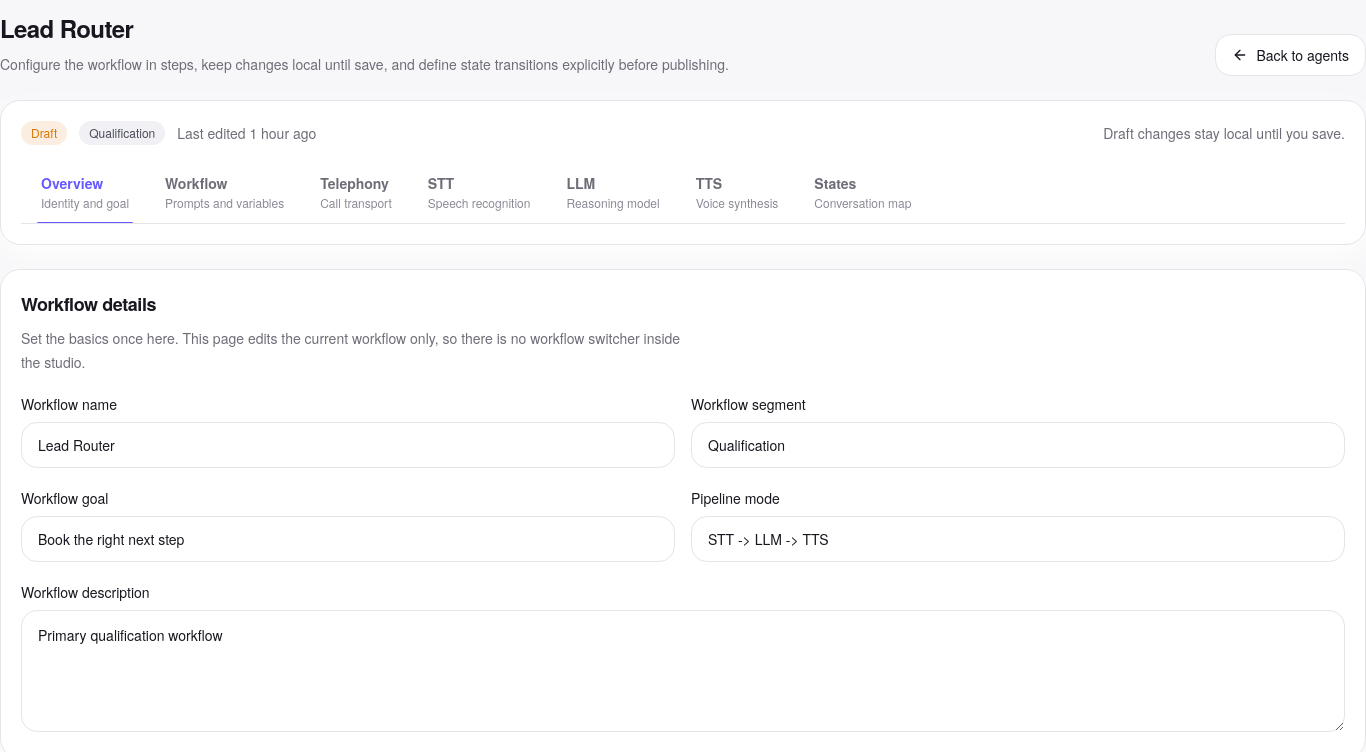
AgentStudioScreen › inserts a variable from the state prompt picker
What coordinates should you click on to do the following:
click the tab "States Conversation map"
I would click on:
 (863, 192)
Its box is [798, 161, 927, 223].
(page scrolled)
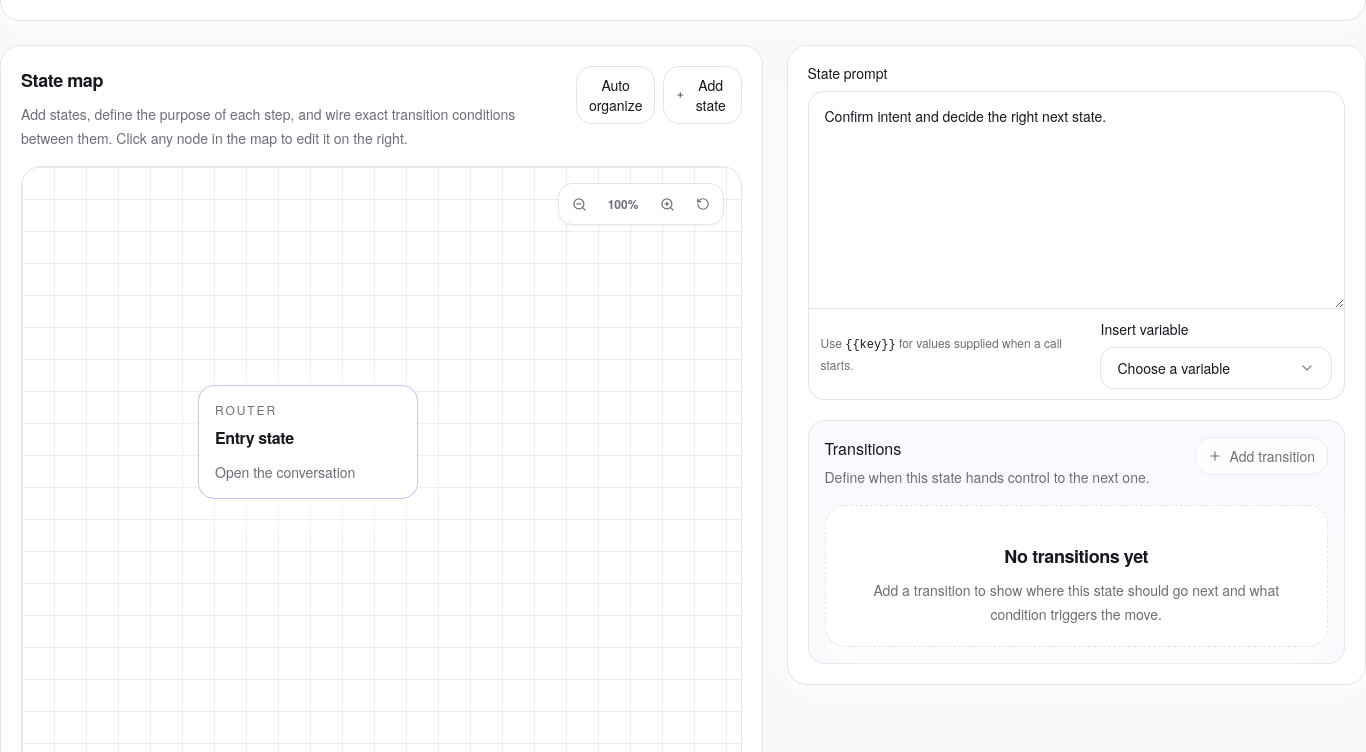
What coordinates should you click on to do the following:
click the button with aria-label "Insert variable into State prompt"
I would click on:
 (1216, 368)
Its box is [1100, 347, 1332, 389].
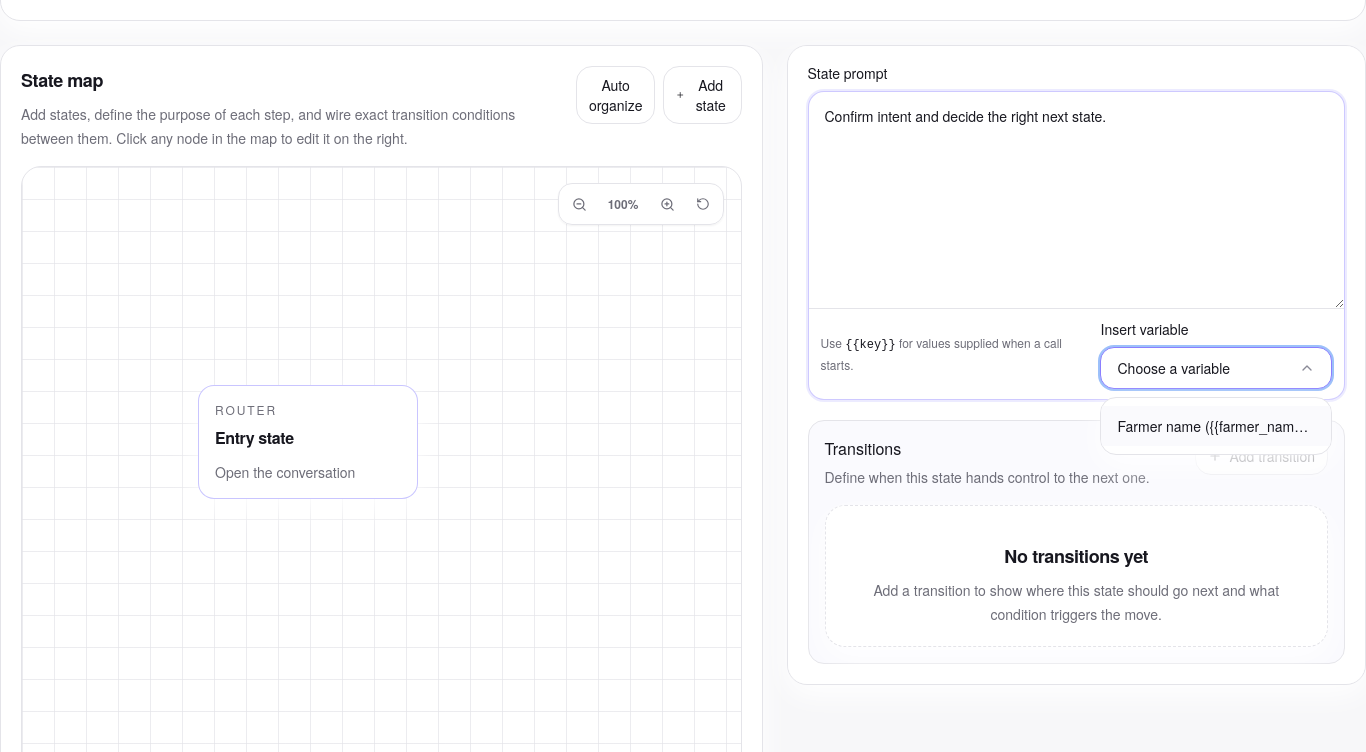
What coordinates should you click on to do the following:
click the option "Farmer name ({{farmer_name}})"
I would click on:
 (1216, 426)
Its box is [1102, 406, 1331, 446].
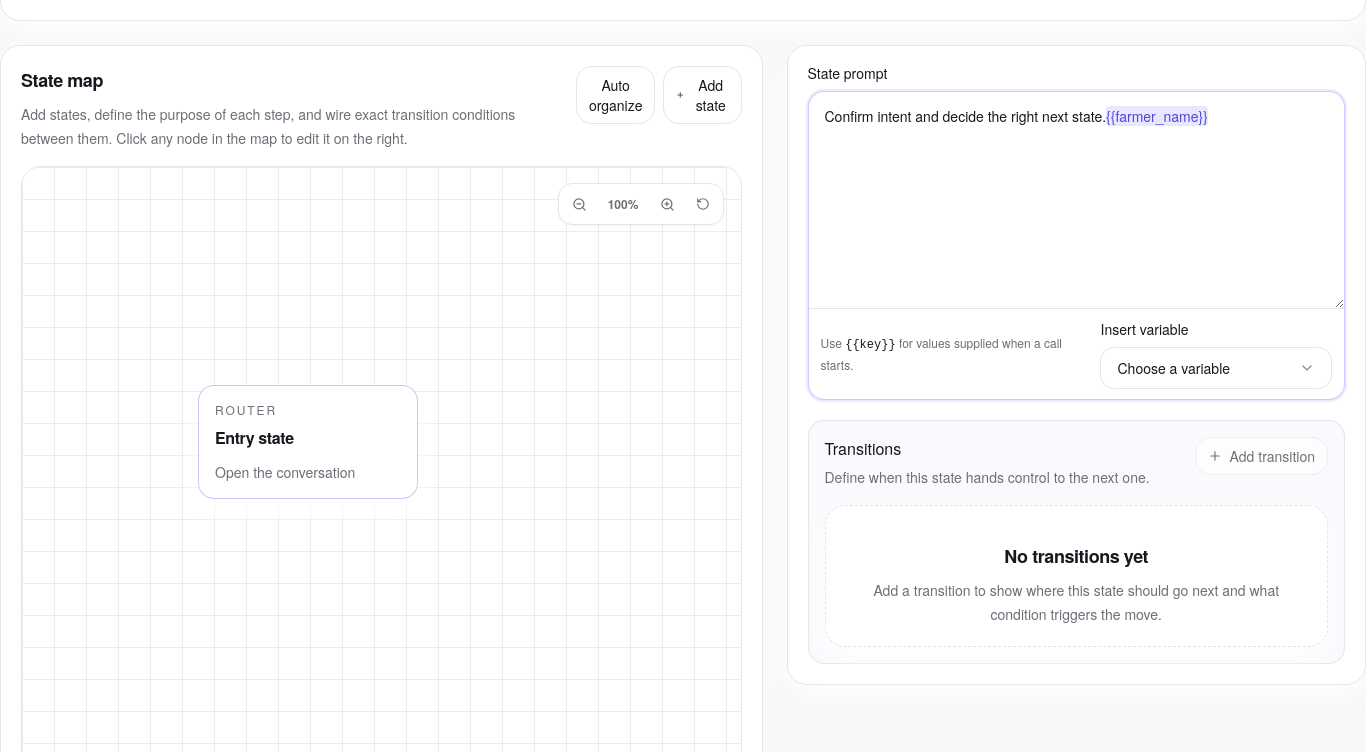
Expected: the text box labelled "State prompt" holds "Confirm intent and decide the right next state.{{farmer_name}}", [808, 92, 1344, 308]
Expected: the number of elements with test id "prompt-variable-token" is 1, [1106, 106, 1208, 126]
